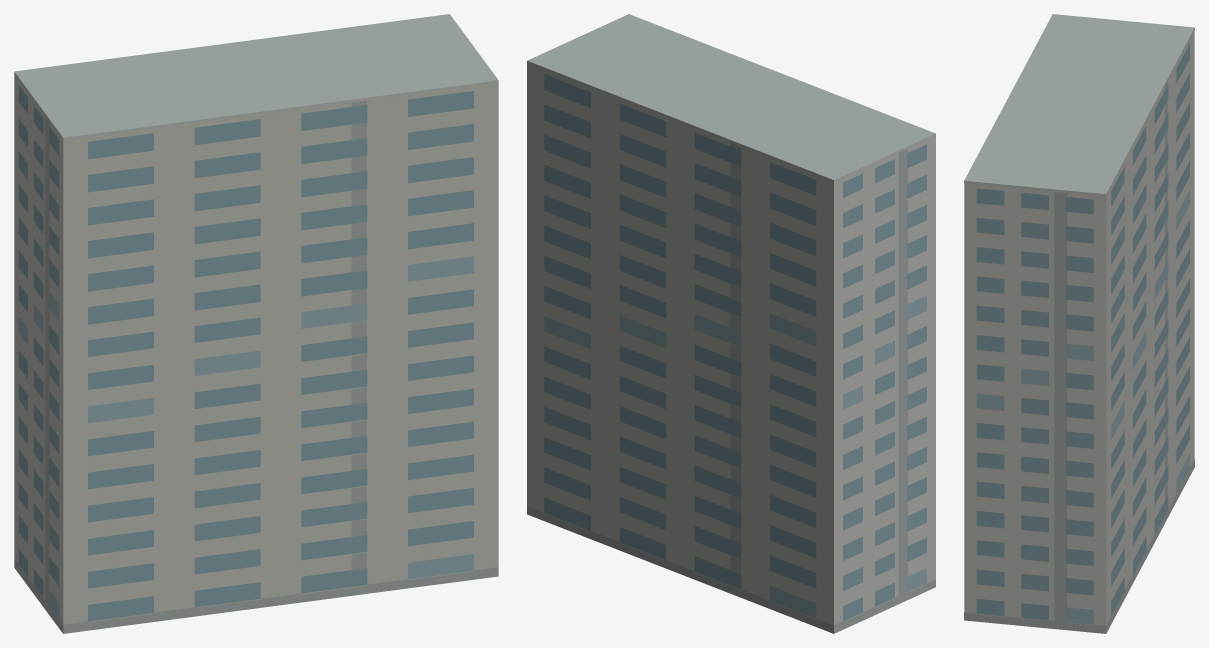
File: residential-7c1c63a9-86f2-4d52-b384-cccb9a05aba6.glb
3 views of the same model, side by side, from view 1: azimuth 30°, elevation 25°; view 2: azimuth 150°, elevation 25°; view 3: azimuth 270°, elevation 25° (orthographic). The views are drawn at different scales.
Parts seen in each view (by area): view 1: residential-7c1c63a9-86f2-4d52-b384-cccb9a05aba6.tmp; view 2: residential-7c1c63a9-86f2-4d52-b384-cccb9a05aba6.tmp; view 3: residential-7c1c63a9-86f2-4d52-b384-cccb9a05aba6.tmp.
Boxes of the visible parts, x1,y1,x2,y2 form: residential-7c1c63a9-86f2-4d52-b384-cccb9a05aba6.tmp: (14, 14, 498, 633); residential-7c1c63a9-86f2-4d52-b384-cccb9a05aba6.tmp: (527, 14, 935, 633); residential-7c1c63a9-86f2-4d52-b384-cccb9a05aba6.tmp: (964, 14, 1194, 633).
Size of the model in its own units: 36.05 by 41 by 19.5.
